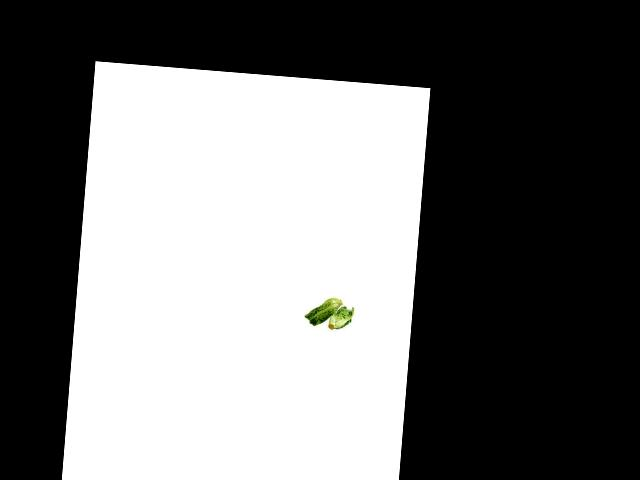lettuce: (326, 304, 355, 335)
